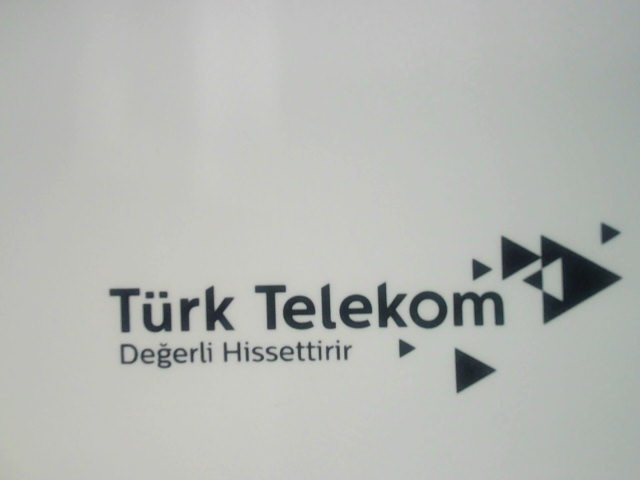AQ_TURKTelekom: (105, 212, 628, 395)
